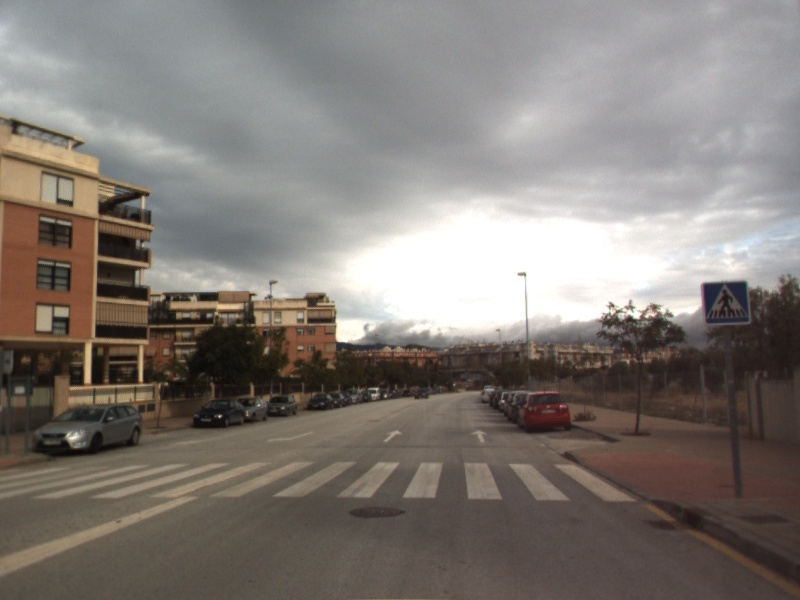STRAIGHT: (381, 428, 405, 444), (468, 428, 489, 444)
